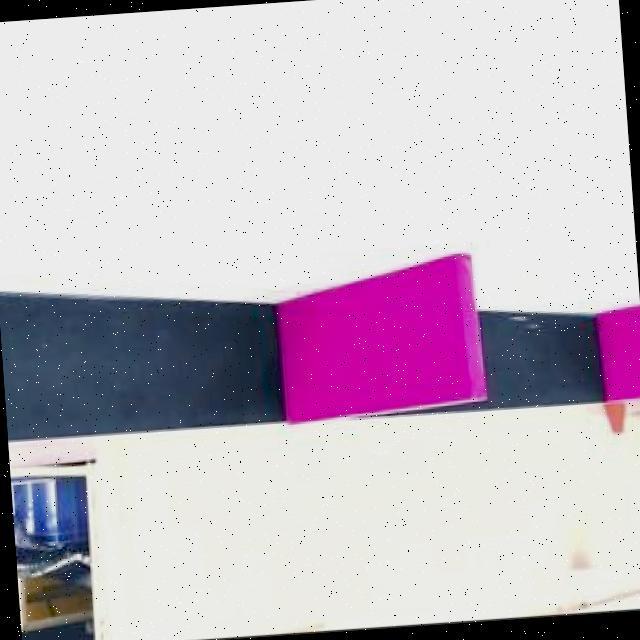xparking: (279, 259, 482, 414), (599, 311, 640, 398)
